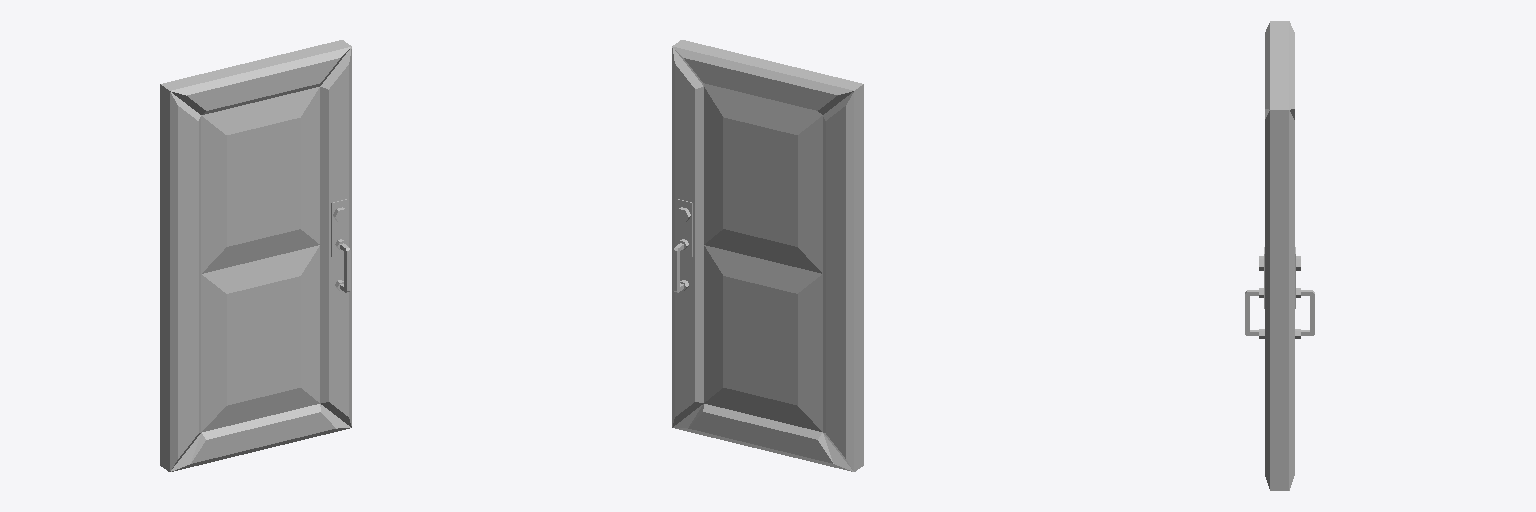
Rendered from Door .obj.
The picture shows the model from 3 angles: view 1: azimuth 30°, elevation 25°; view 2: azimuth 150°, elevation 25°; view 3: azimuth 270°, elevation 25°; orthographic projection.
Parts seen in each view (by area): view 1: Door1; view 2: Door1; view 3: Door1.
Part boxes in pixels (x1,y1,x2,y2): Door1: (160,40,351,471); Door1: (672,40,863,471); Door1: (1245,21,1314,490).
Bounding box in the file's own units: 162 × 325 × 53.79.